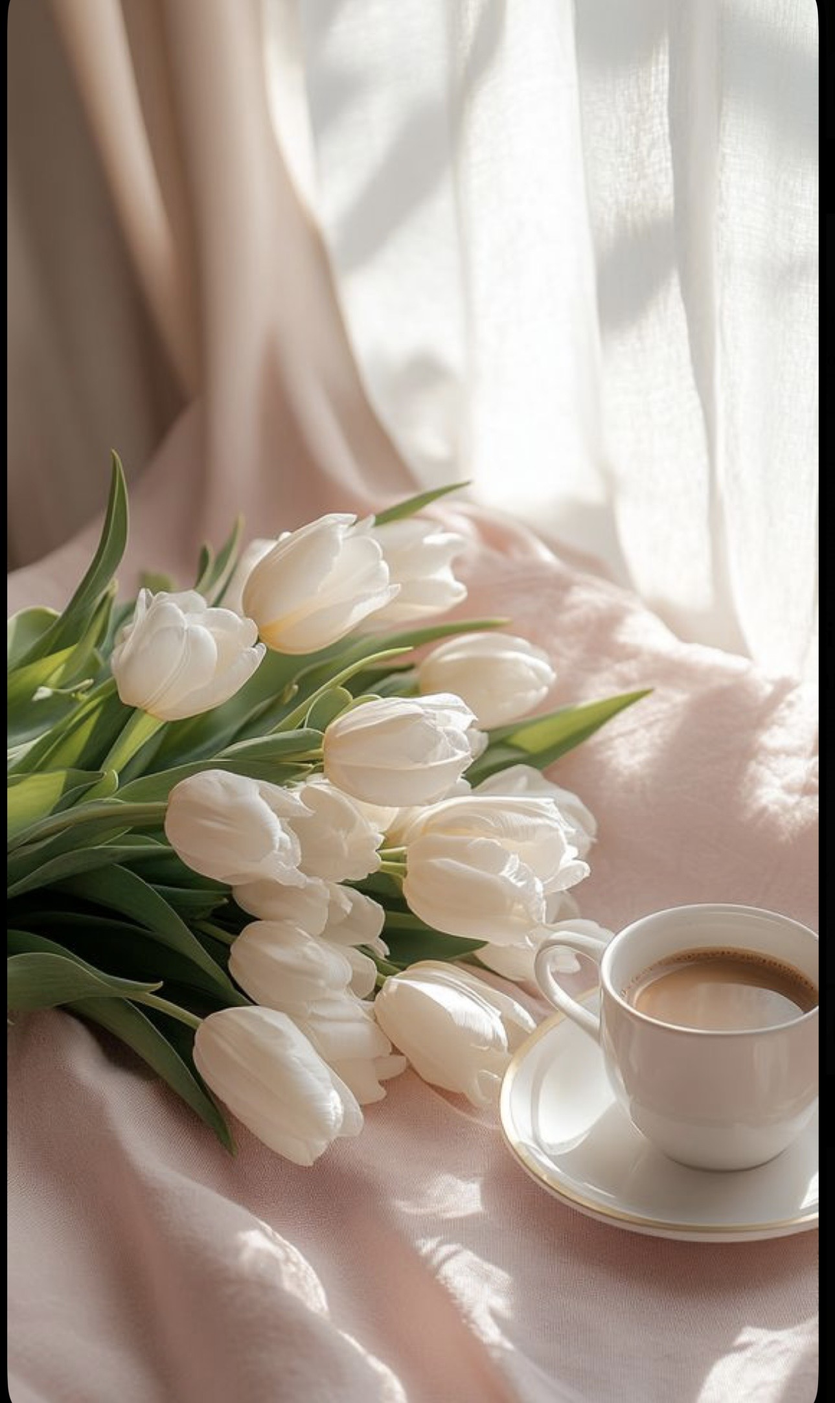tulip: (393, 781, 595, 950), (186, 994, 370, 1172), (239, 504, 402, 662), (376, 954, 538, 1112), (108, 585, 269, 729), (311, 688, 492, 811), (337, 509, 475, 636), (220, 916, 386, 1021), (162, 767, 305, 886), (421, 626, 560, 734), (296, 987, 414, 1114), (230, 863, 398, 934), (283, 781, 389, 886)
